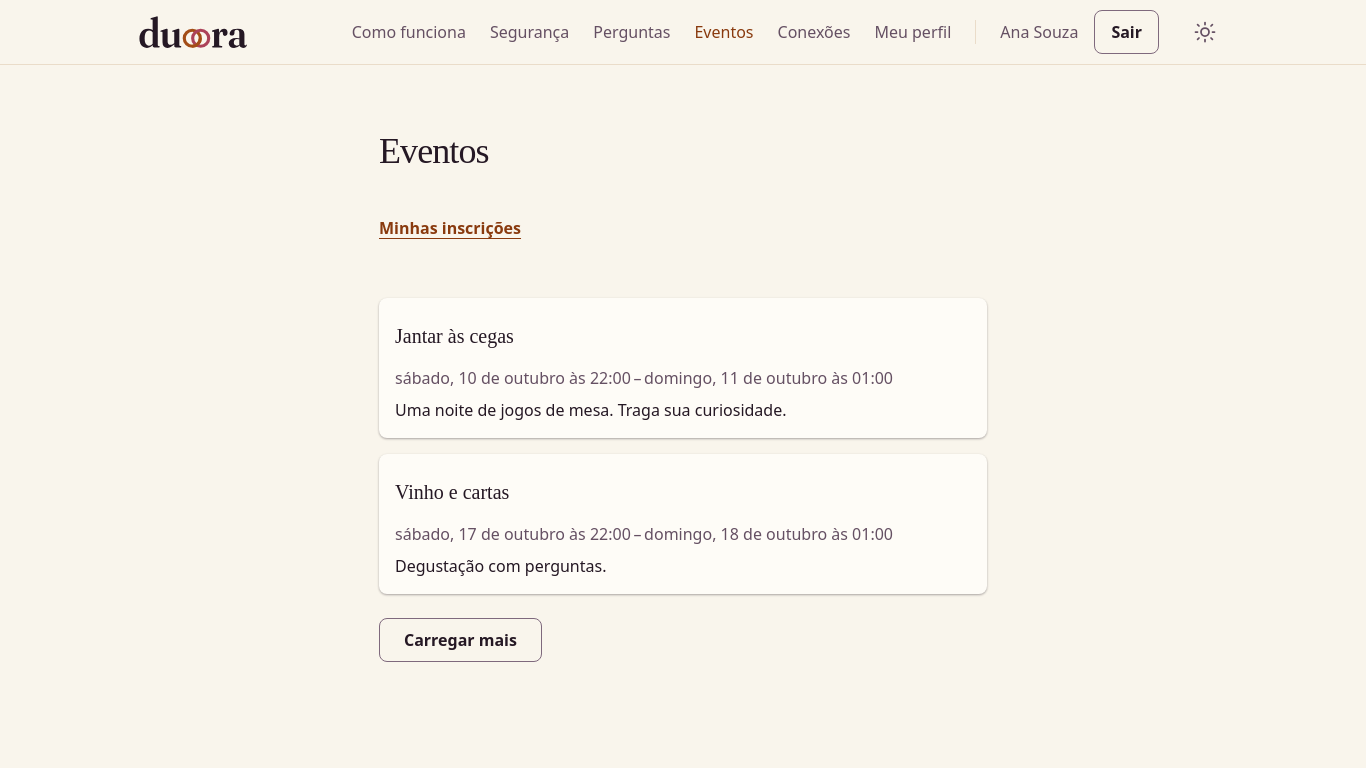
Test: events page › loads the next page on "Carregar mais" and stops offering it on the last page
Click the button "Carregar mais" at (460, 640), box [379, 618, 542, 662]
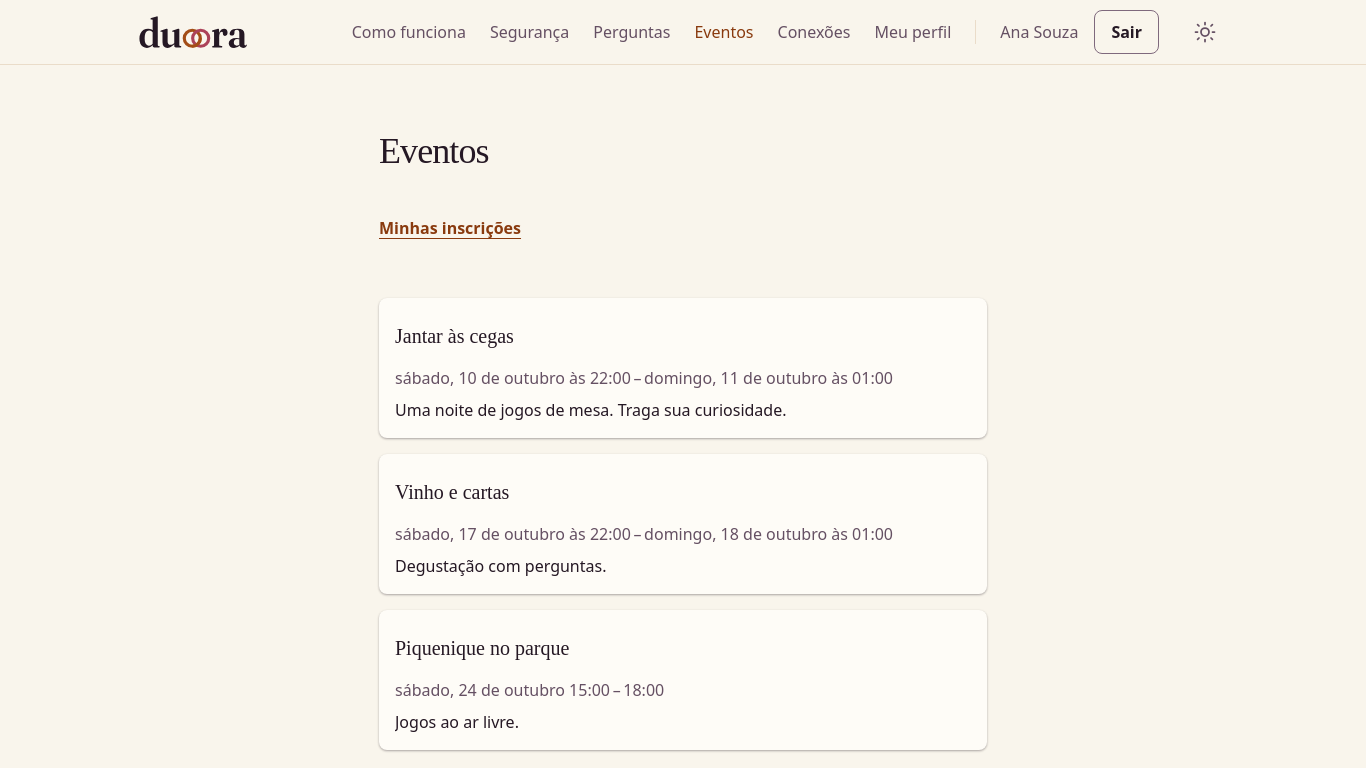
Check: the link "Piquenique no parque" is shown, box [395, 637, 569, 659]
Check: the number of list items is 3, box [379, 298, 987, 438]; [379, 454, 987, 594]; [379, 610, 987, 750]
Check: the button "Carregar mais" is gone
